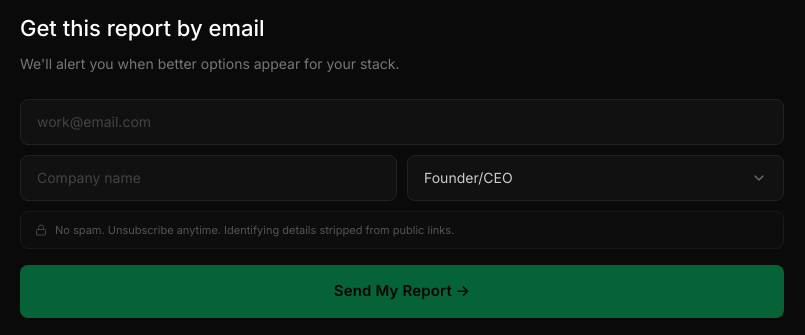
Test case: LeadCapture › Submit disabled until email is valid
Check: the button "Send My Report →" is disabled, box [20,265,784,318]
Type "not-an-email" into the field labelled "email" at x=402, y=122, box [20,99,784,145]
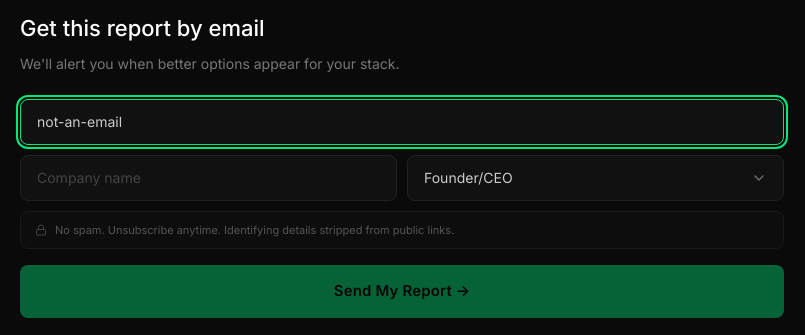
Check: the button "Send My Report →" is disabled, box [20,265,784,318]
Replace the text in the field named "email" with "founder@example.com" at x=402, y=122, box [20,99,784,145]
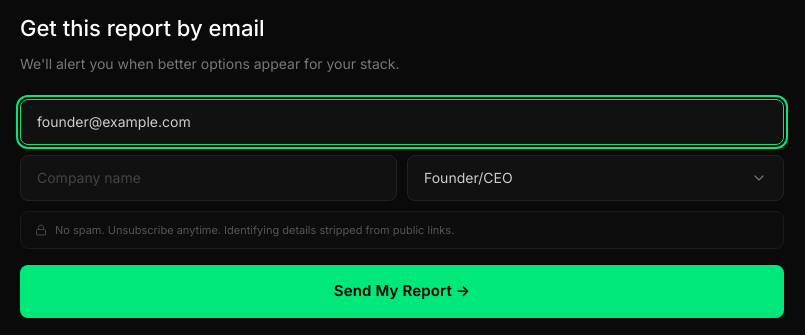
Check: the button "Send My Report →" is enabled, box [20,265,784,318]
